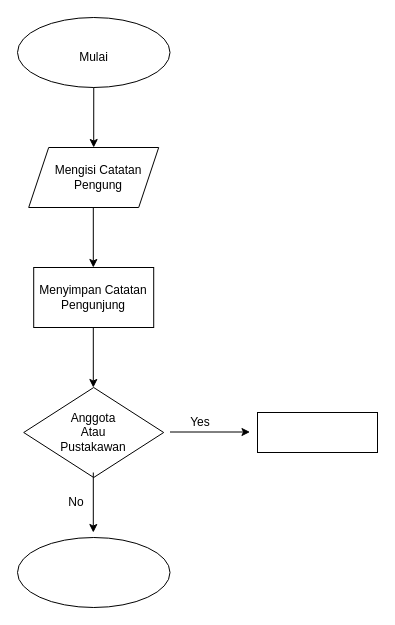
The diagram is 395 pixels wide and 625 high, and some of its shapes have lost their labels. The shapes that lost their labels are listed below. From the top down, each one's centre as x and y in pixels, then its label:
At point (317, 432): "Rekap Catatan".
At point (93, 572): "Selesai".
